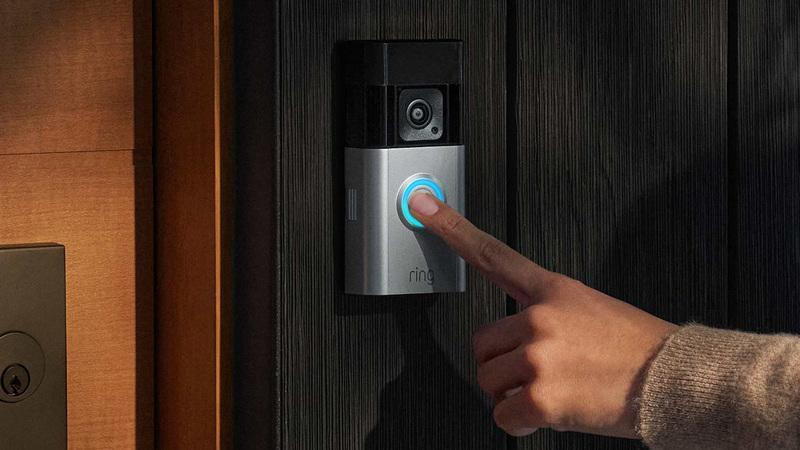doorbell: (331, 33, 482, 313)
